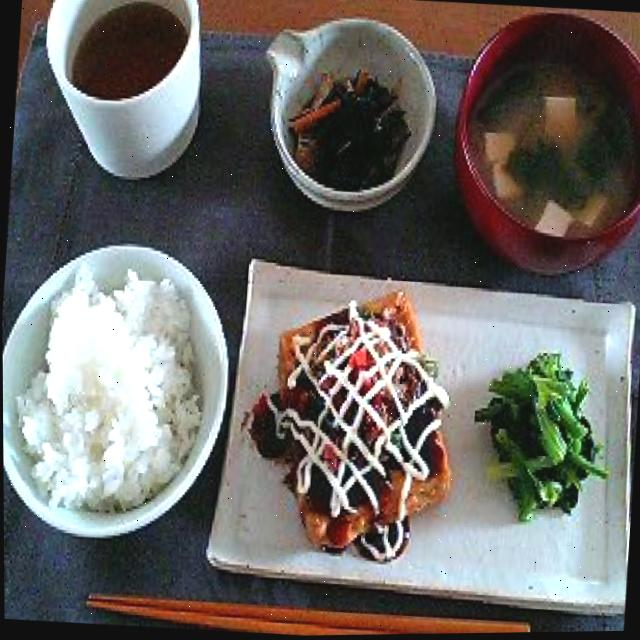汤锅炖物: (436, 7, 640, 273)
米饭主食: (1, 242, 232, 532)
